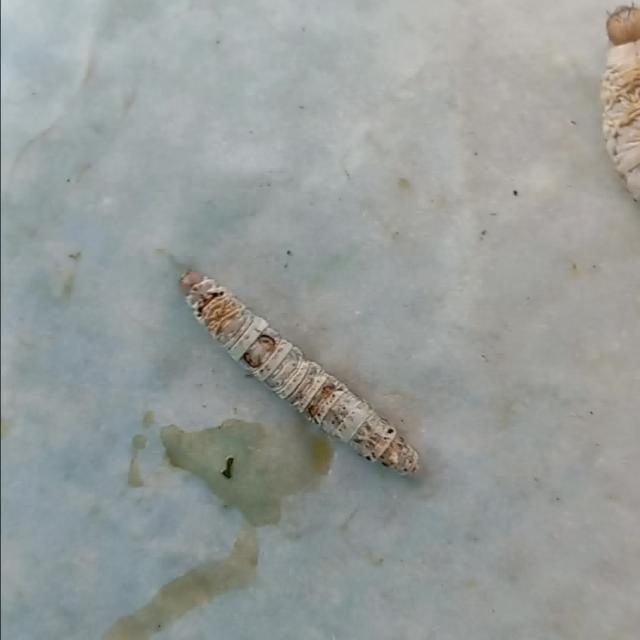Grasserie: (171, 245, 439, 507)
